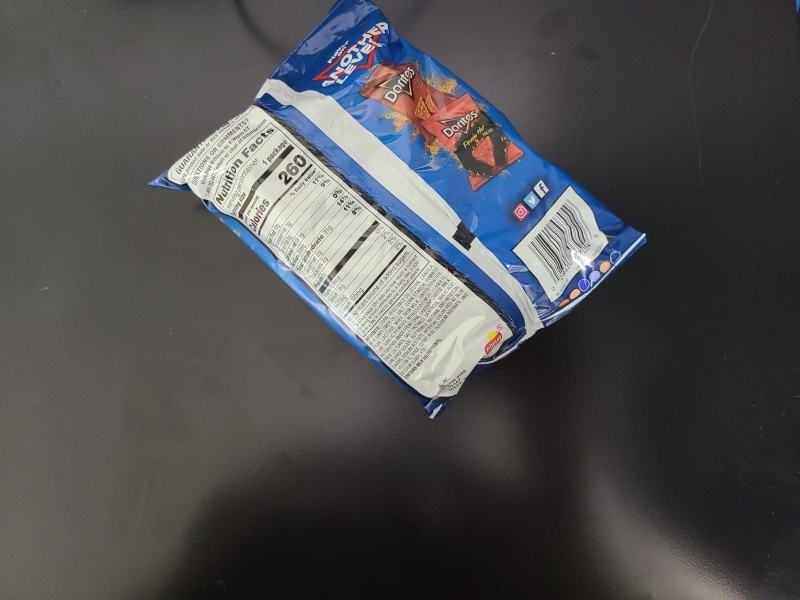doritos: (148, 1, 646, 424)
